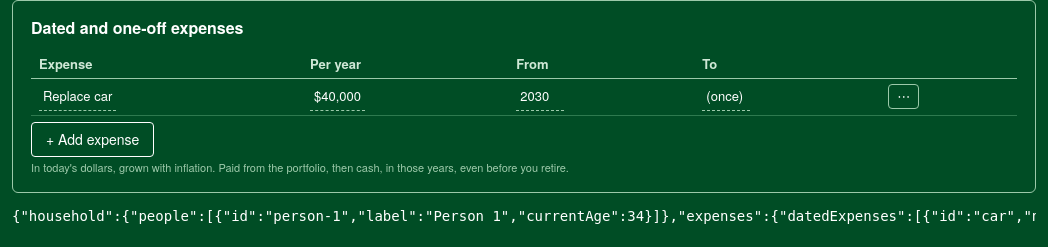
DatedExpensesSection › shows a range, then (once) again, as To changes
The width and height of the screenshot is (1048, 247).
Click the button with aria-label "To for Replace car".
click(726, 97)  # box [702,83,750,111]
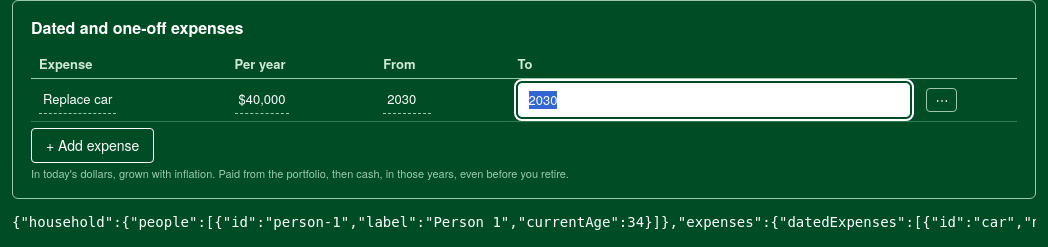
Type keys "2032{Enter}"
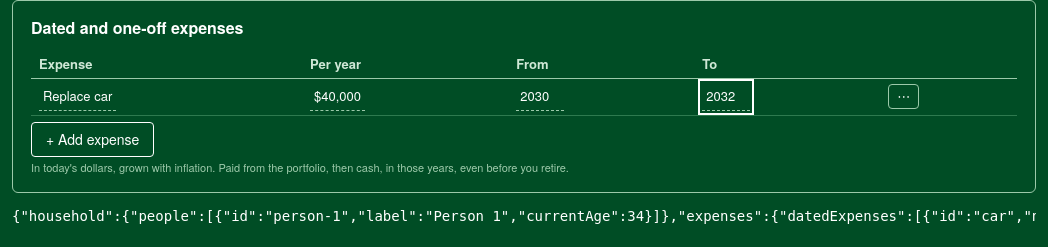
Expected: the button named "To for Replace car" reads "2032", [702,83,750,111]
# Moving From past To drags To up with it.
Click the button named "From for Replace car".
click(540, 97)  # box [516,83,564,111]
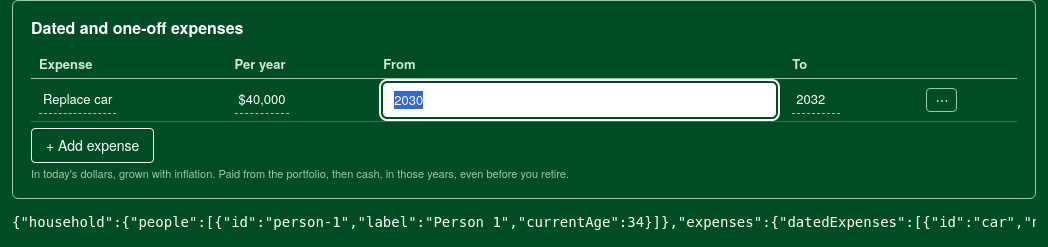
Type keys "2035{Enter}"
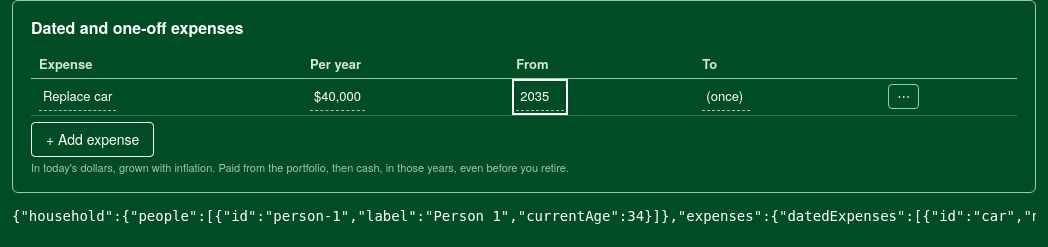
Expected: the button with aria-label "To for Replace car" reads "(once)", [702,83,750,111]
